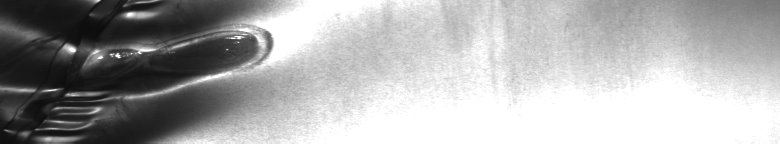ke: (4, 4, 280, 136)
